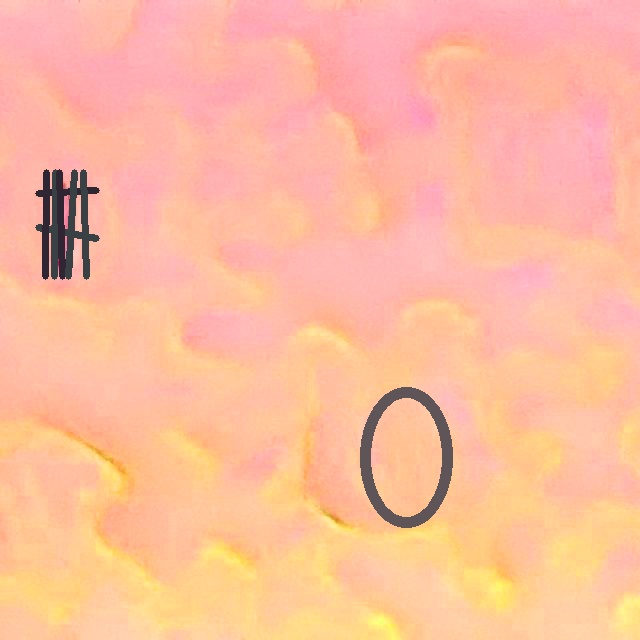close: (358, 387, 453, 527)
open: (36, 170, 99, 279)
